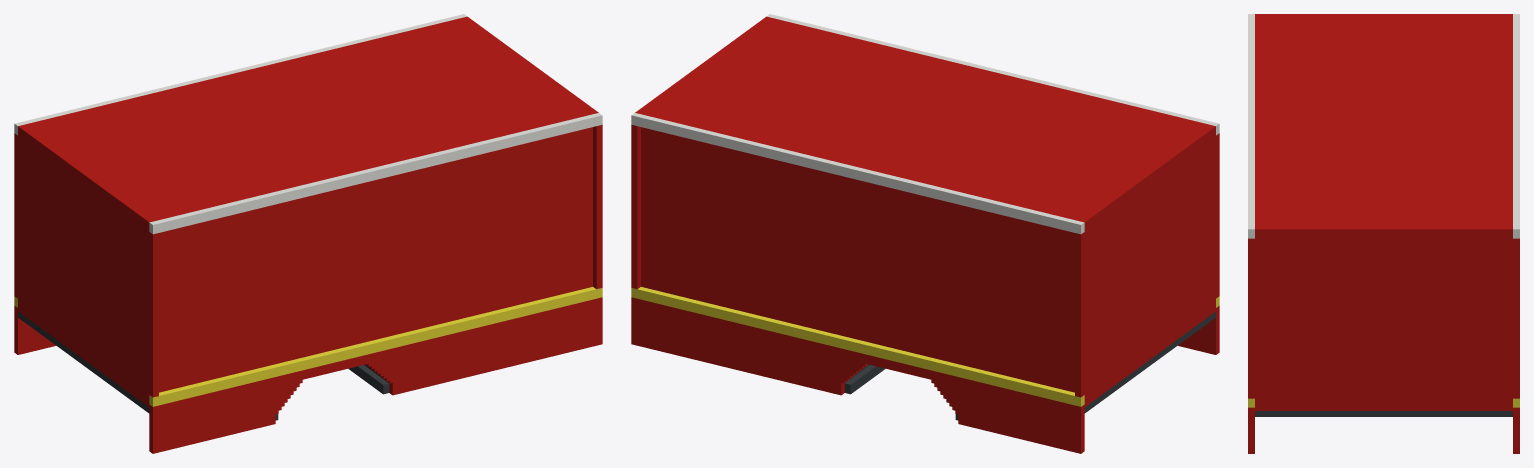
Rendered from fire_engine_body.glb.
3 views of the same model, side by side, from view 1: azimuth 30°, elevation 25°; view 2: azimuth 150°, elevation 25°; view 3: azimuth 270°, elevation 25° (orthographic).
Visible parts, largest first — view 1: body:compound; view 2: body:compound; view 3: body:compound.
Boxes of the visible parts, box(x1,y1,x2,y2) form: body:compound: box(14, 14, 602, 453); body:compound: box(631, 14, 1219, 453); body:compound: box(1248, 14, 1519, 453).
Size of the model in its own units: 4.69 by 2.28 by 2.5.
